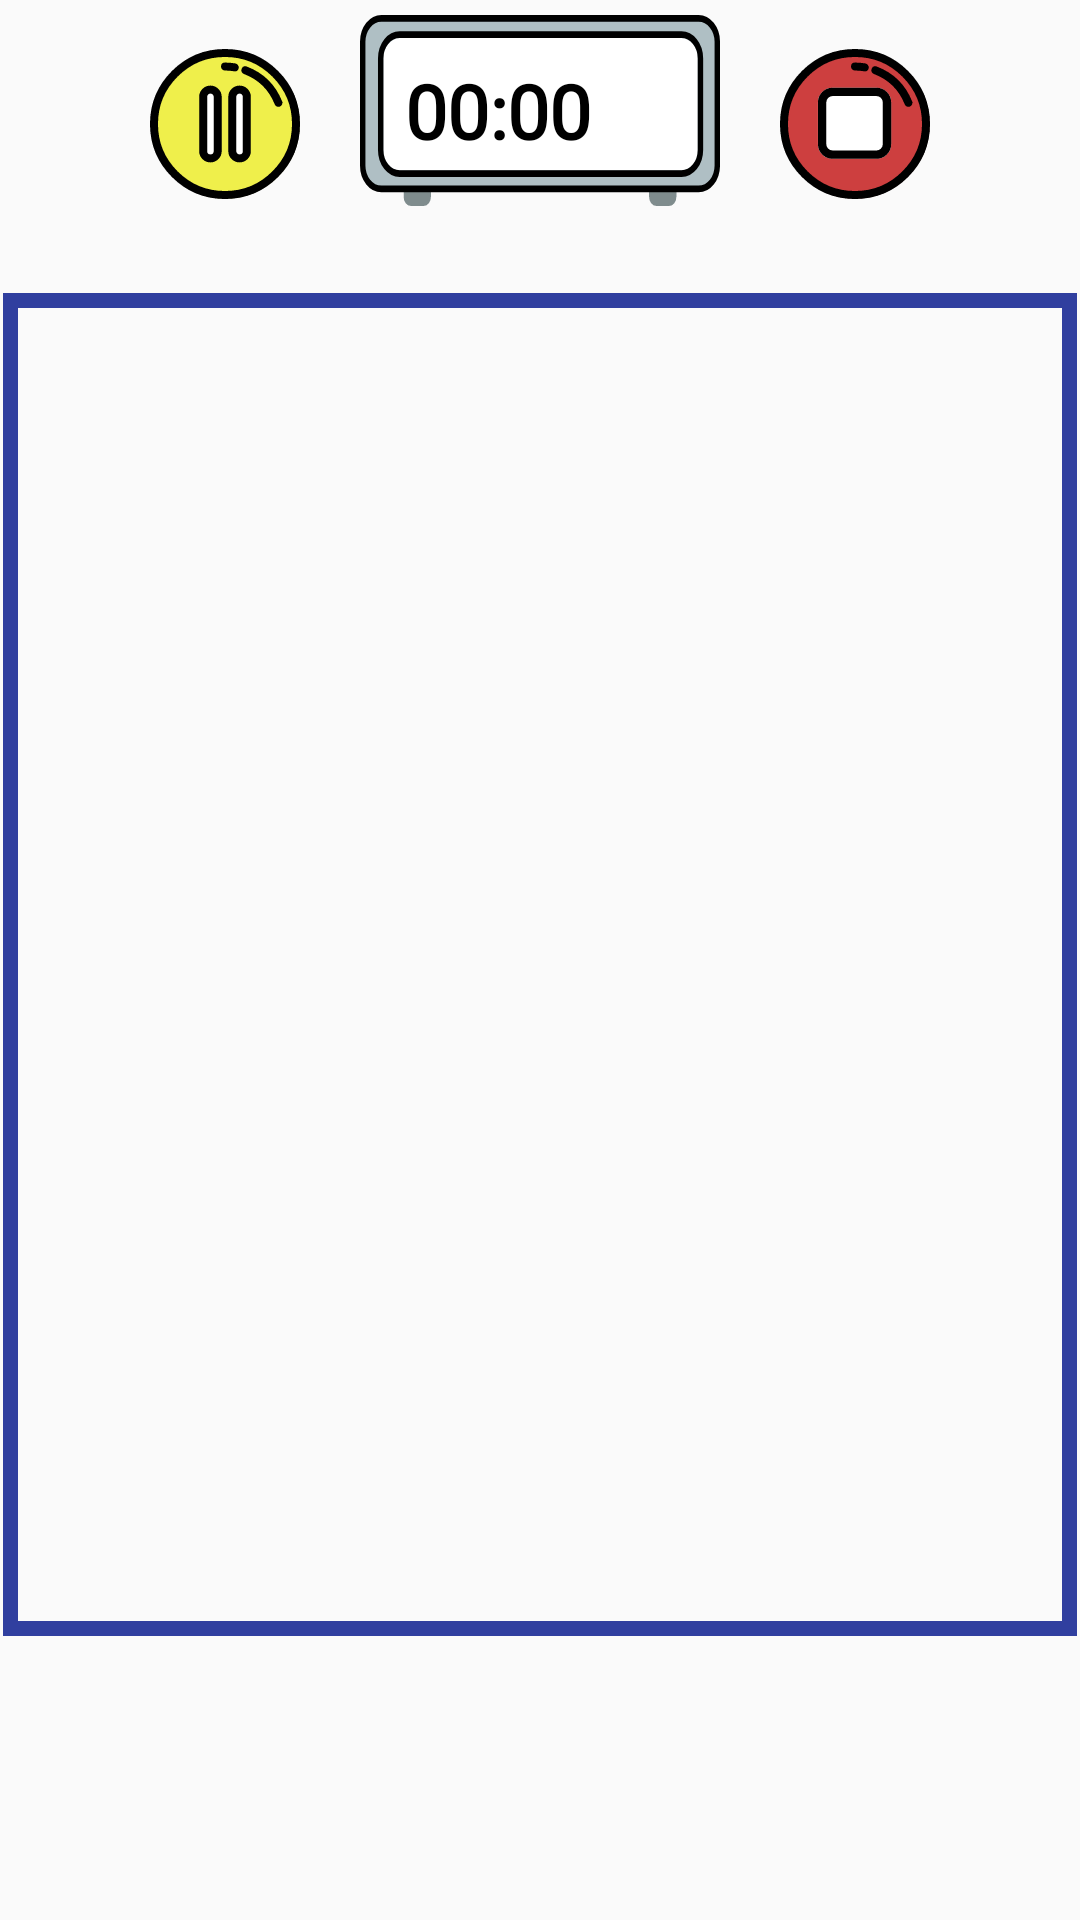

Locate icon controls on the screen. Image size 1080x1920, boxes as (x1, y1, x2, y2).
pause: (150, 49, 300, 199)
stop: (780, 49, 930, 199)
